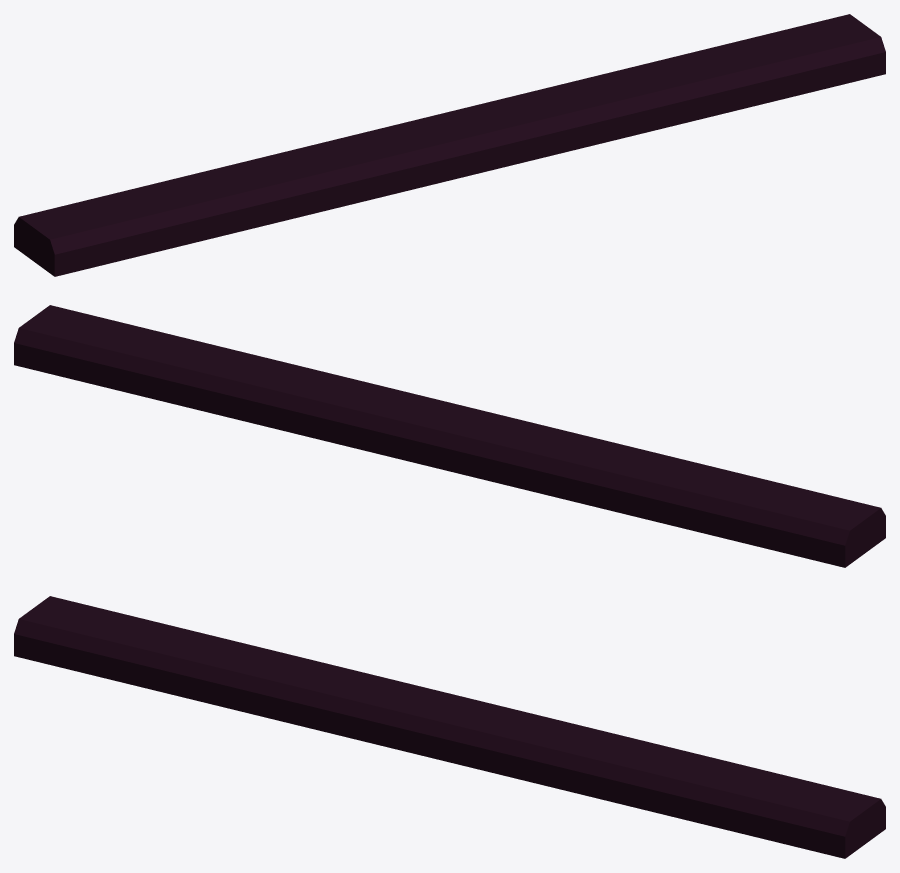
Rendered from Baseboard_01.fbx.
3 renders of one model, top to bottom at view 1: azimuth 30°, elevation 25°; view 2: azimuth 150°, elevation 25°; view 3: azimuth 330°, elevation 25°, orthographic.
Parts seen in each view (by area): view 1: Baseboard_01; view 2: Baseboard_01; view 3: Baseboard_01.
Part boxes in pixels (x1,y1,x2,y2): Baseboard_01: [14, 14, 885, 276]; Baseboard_01: [14, 305, 885, 567]; Baseboard_01: [14, 596, 885, 858].
Size of the model in its own units: 4 by 0.3402 by 0.1552.
